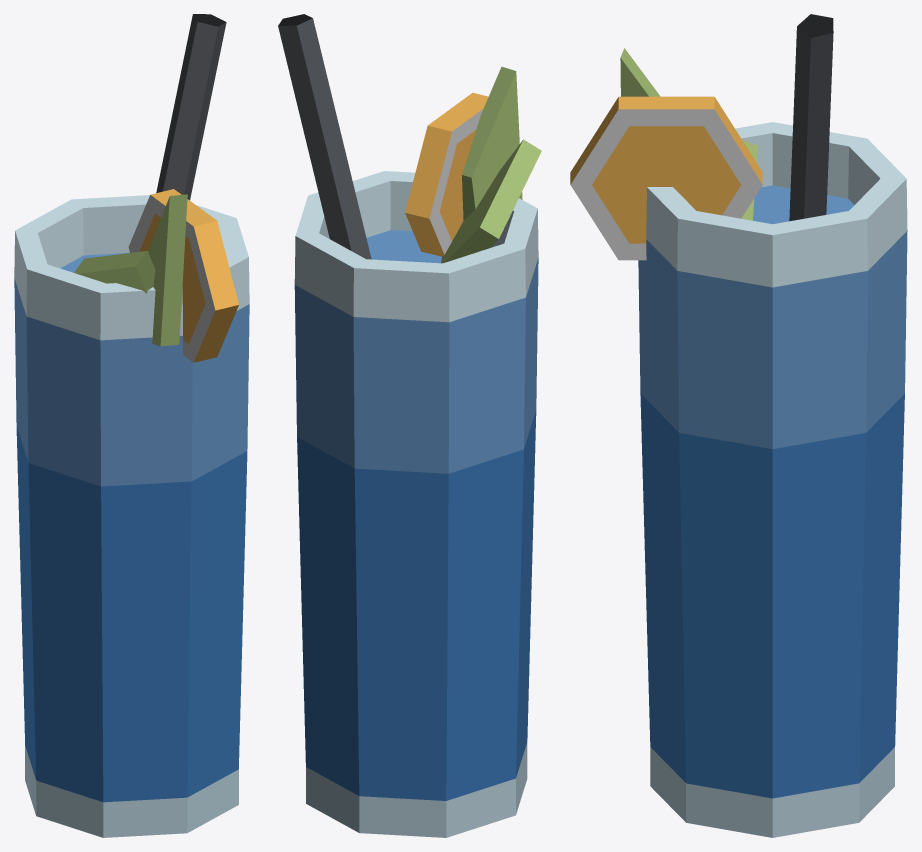
Rendered from SM_Item_Drink_Glass_02.fbx.
3 renders of one model, left to right at view 1: azimuth 30°, elevation 25°; view 2: azimuth 150°, elevation 25°; view 3: azimuth 270°, elevation 25°, orthographic. The views are drawn at different scales.
Visible parts, largest first — view 1: SM_Item_Drink_Glass_02; view 2: SM_Item_Drink_Glass_02; view 3: SM_Item_Drink_Glass_02.
Boxes of the visible parts, bbox=[...] form: SM_Item_Drink_Glass_02: bbox=[14, 14, 249, 837]; SM_Item_Drink_Glass_02: bbox=[278, 14, 541, 837]; SM_Item_Drink_Glass_02: bbox=[570, 14, 907, 837].
Bounding box in the file's own units: 9.57 × 31.04 × 11.61.
